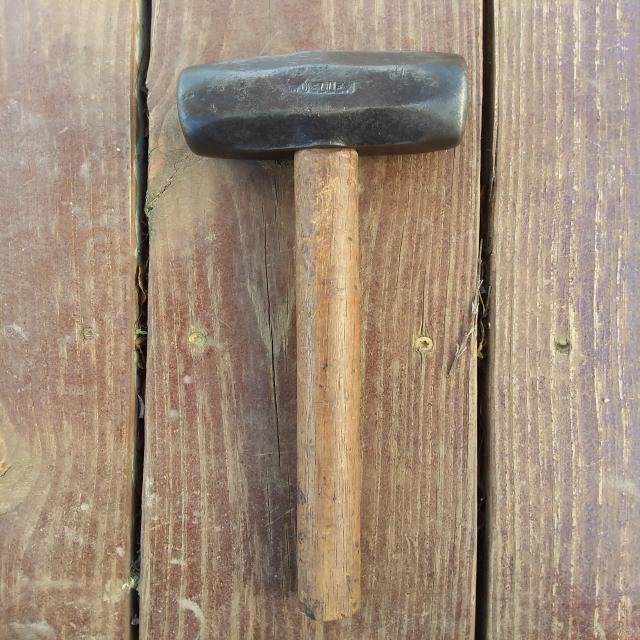hammer: (168, 42, 480, 628)
